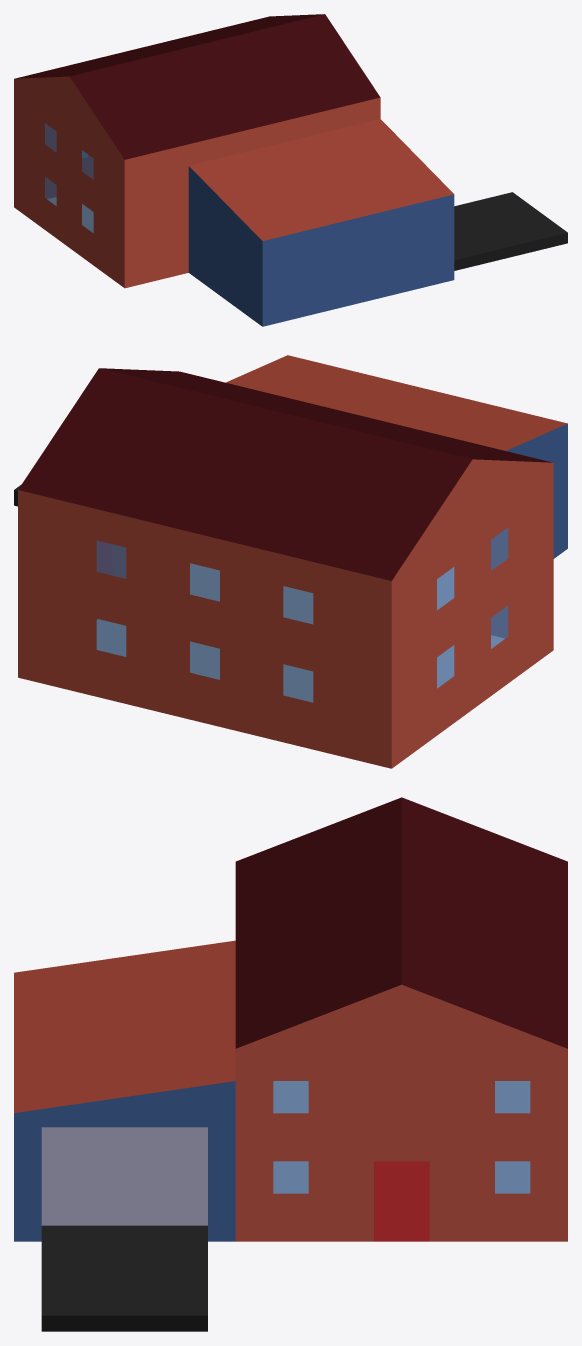
File: simplehouse5.dae
The picture shows the model from 3 angles, top to bottom: view 1: azimuth 30°, elevation 25°; view 2: azimuth 150°, elevation 25°; view 3: azimuth 270°, elevation 25°; orthographic projection. The views are drawn at different scales.
Visible parts, largest first — view 1: SketchUp (×5); view 2: SketchUp (×15); view 3: SketchUp (×13).
Part boxes in pixels (left/top/right/bottom): SketchUp (×5): left=14, top=14, right=567, bottom=326; SketchUp (×15): left=18, top=355, right=567, bottom=768; SketchUp (×13): left=14, top=797, right=567, bottom=1331.
Bounding box in the file's own units: 14.57 × 12.3 × 6.3.
